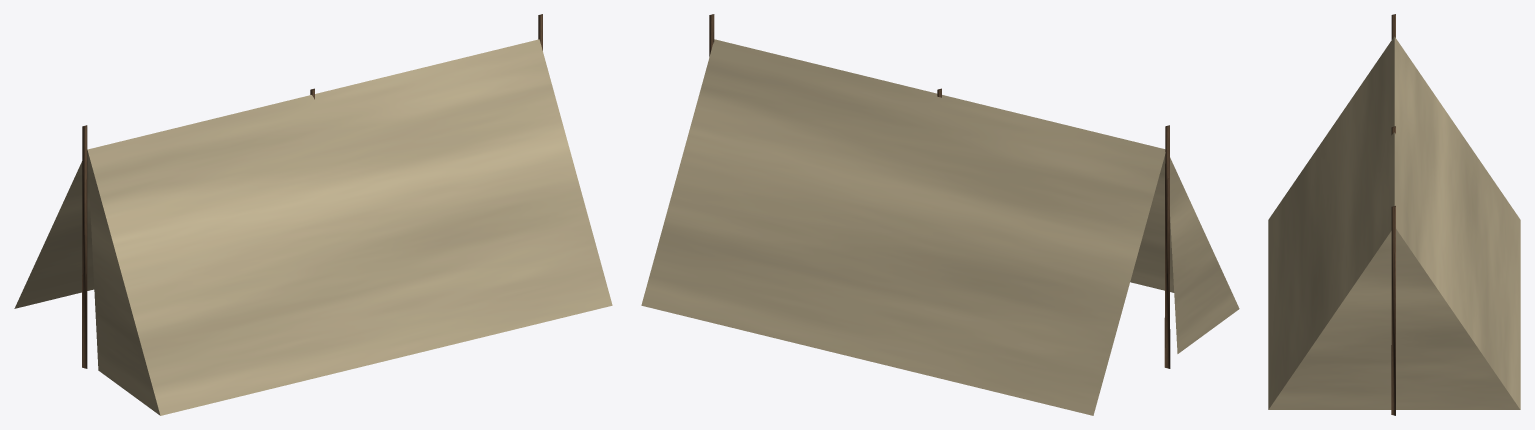
File: Tent_Pilgrim_Long_1_LOD2.gltf
3 views of the same model, side by side, from view 1: azimuth 30°, elevation 25°; view 2: azimuth 150°, elevation 25°; view 3: azimuth 270°, elevation 25° (orthographic). The views are drawn at different scales.
Visible parts, largest first — view 1: Tent_Pilgrim_Long_1_LOD2; view 2: Tent_Pilgrim_Long_1_LOD2; view 3: Tent_Pilgrim_Long_1_LOD2.
Boxes of the visible parts, left/top/right/bottom form: Tent_Pilgrim_Long_1_LOD2: left=14, top=14, right=612, bottom=415; Tent_Pilgrim_Long_1_LOD2: left=641, top=14, right=1239, bottom=415; Tent_Pilgrim_Long_1_LOD2: left=1268, top=14, right=1520, bottom=415.
Size of the model in its own units: 7.14 by 3.57 by 3.92.
2 materials, 2 textured.
